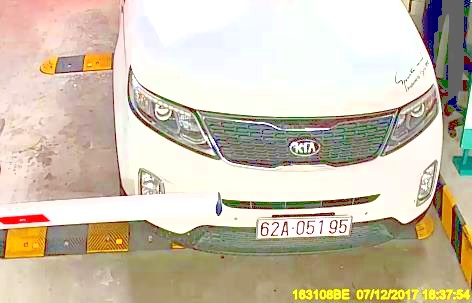plate: (256, 216, 351, 239)
